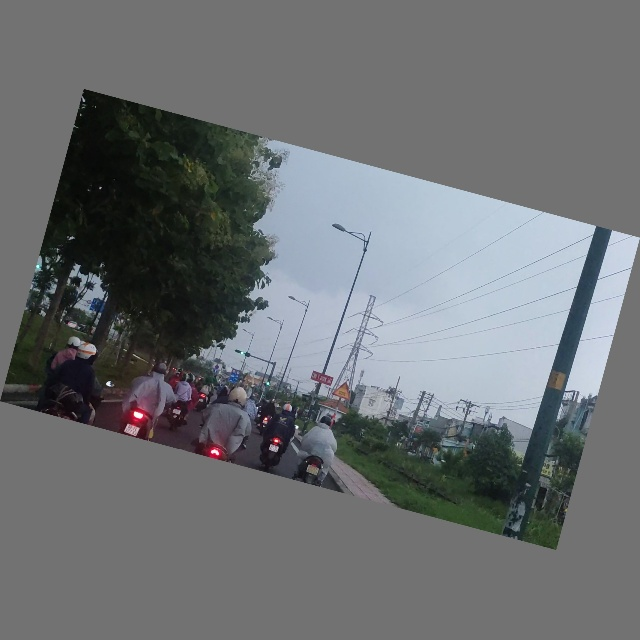W.210: (332, 381, 354, 401)
